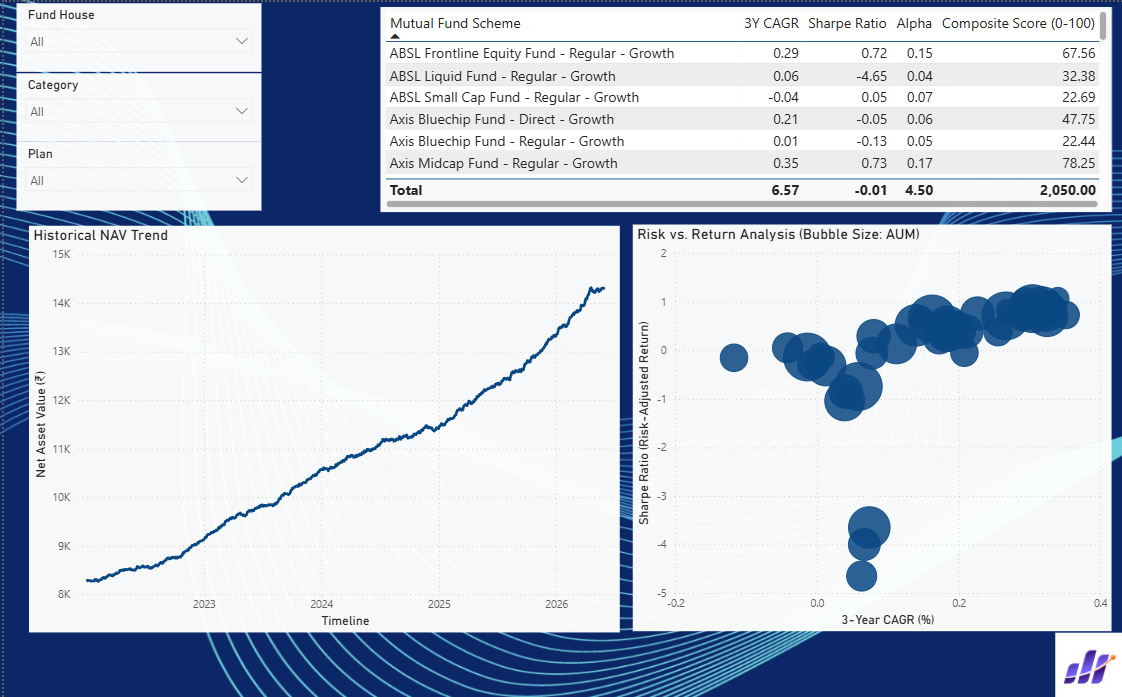

The page's visual inventory and layout, read from the dashboard file:
{"tool":"powerbi","page":{"name":"Fund Performance","canvas":[1280,800],"ordinal":1},"visuals":[{"type":"slicer","fields":{"Values":["processed_01_fund_master.fund_house"]},"box":[13.7,1.4,279.9,78.2],"z":0},{"type":"slicer","fields":{"Values":["processed_01_fund_master.category"]},"box":[13.7,81,279.9,78.2],"z":1000},{"type":"slicer","fields":{"Values":["processed_01_fund_master.plan"]},"box":[13.7,160.5,279.9,78.2],"z":2000},{"type":"scatterChart","title":"Risk vs. Return Analysis (Bubble Size: AUM)","fields":{"X":["Sum(fund_scorecard.cagr_3yr)"],"Y":["Sum(fund_scorecard.sharpe_ratio)"],"Category":["processed_01_fund_master.scheme_name"],"Size":["Sum(processed_03_aum_by_fund_house.aum_lakh_crore)"]},"box":[719,254.8,547.5,465.2],"z":3000},{"type":"tableEx","fields":{"Values":["fund_scorecard.scheme_name","Sum(fund_scorecard.cagr_3yr)","Sum(fund_scorecard.sharpe_ratio)","Sum(fund_scorecard.alpha)","Sum(fund_scorecard.fund_score)"]},"box":[429.5,5.5,835.7,234.6],"z":4000},{"type":"lineChart","title":"Historical NAV Trend","fields":{"Category":["clean_nav_history.date"],"Y":["Sum(clean_nav_history.nav)"]},"box":[28.8,255.2,675.1,465.2],"z":5000},{"type":"image","box":[1201.8,720.4,78.2,79.6],"z":5001}]}

Visuals, with their boxes in screenshot pixels (x1, y1, x2, y2), scaled from the page's 1280x800 canvas onto the 1122x697 screenshot:
slicer - processed_01_fund_master.fund_house: 12, 1, 257, 69
slicer - processed_01_fund_master.category: 12, 71, 257, 139
slicer - processed_01_fund_master.plan: 12, 140, 257, 208
"Risk vs. Return Analysis (Bubble Size: AUM)" scatterChart: 630, 222, 1110, 627
tableEx - fund_scorecard.scheme_name x Sum(fund_scorecard.cagr_3yr): 376, 5, 1109, 209
"Historical NAV Trend" lineChart: 25, 222, 617, 628
image: 1053, 628, 1121, 696
